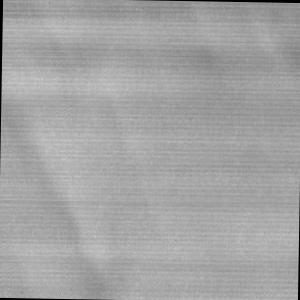Wrinkle: (1, 107, 169, 300), (2, 1, 300, 102)
